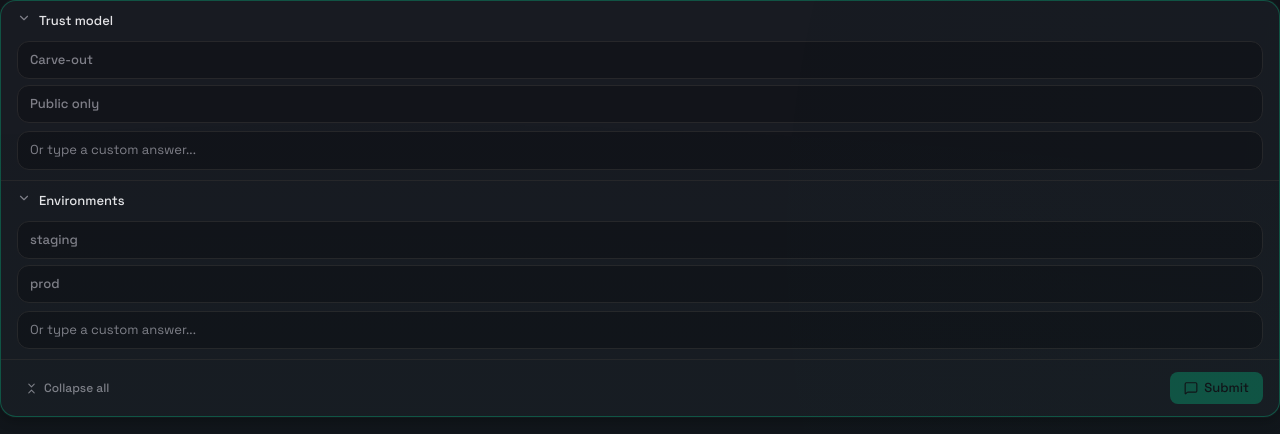
Test: QuestionCard — collapsing › folds the rest when only some questions are already folded
Click the button "Trust model": (76, 20) [17, 11, 1263, 31]
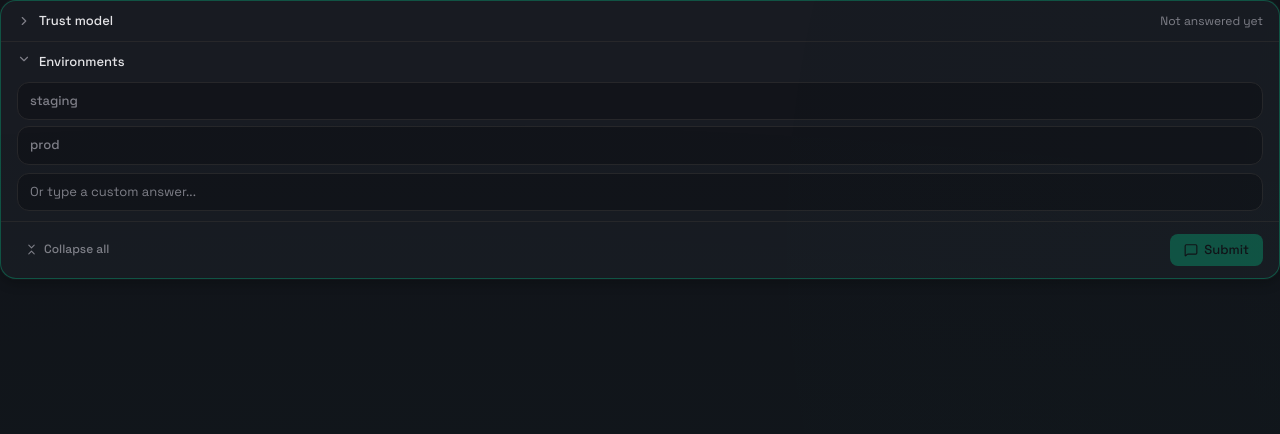
Click the button "Collapse all": (67, 250) [17, 234, 117, 265]
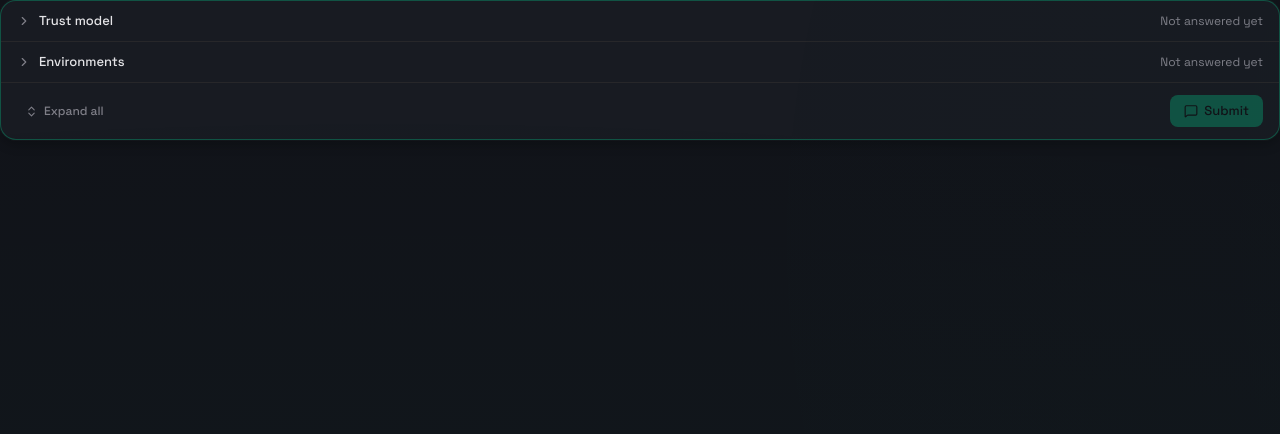
Now the button "staging" is gone
